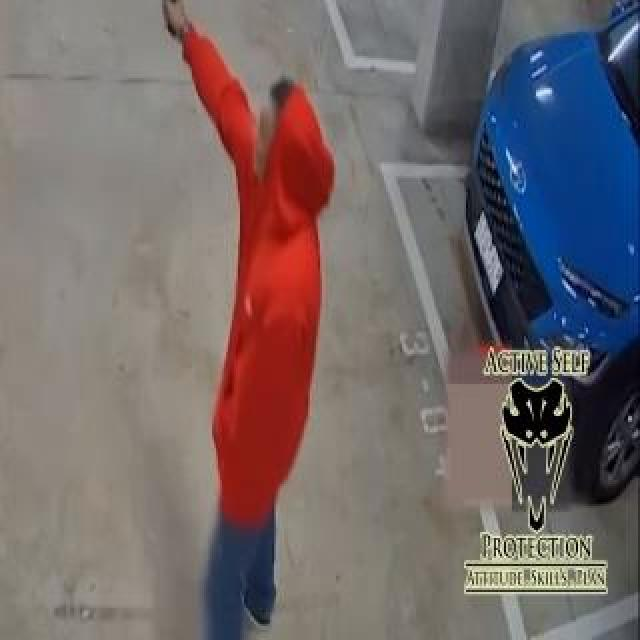Guns: (144, 0, 196, 42)
